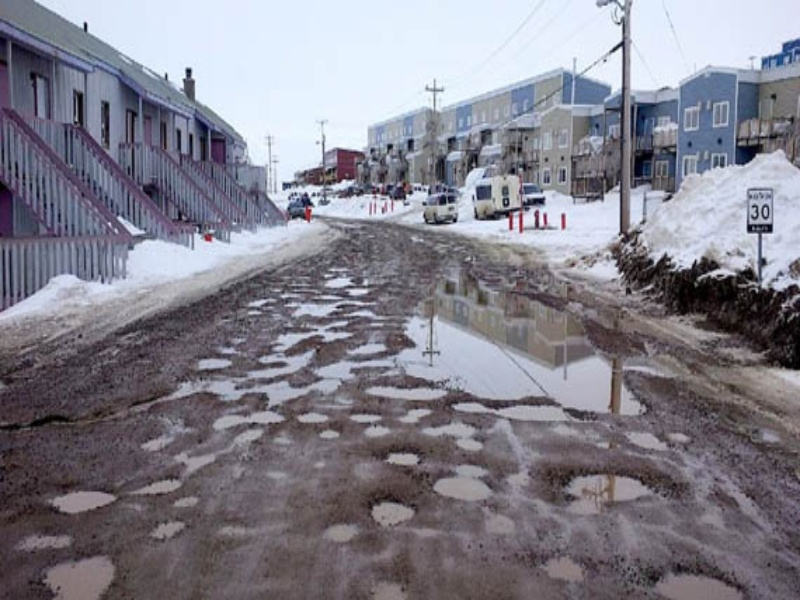pothole: (401, 287, 650, 417), (36, 547, 128, 600), (552, 467, 654, 510), (646, 563, 748, 600), (450, 396, 577, 424), (426, 472, 497, 504), (41, 488, 120, 516), (240, 351, 318, 378), (313, 356, 396, 379), (361, 380, 450, 400), (536, 550, 586, 583), (130, 473, 184, 499), (371, 446, 428, 470), (242, 378, 307, 399), (623, 424, 664, 456), (266, 328, 319, 352), (211, 410, 288, 426), (289, 299, 349, 319), (369, 498, 413, 525), (423, 417, 478, 438), (448, 433, 486, 454), (326, 521, 358, 543), (346, 340, 389, 356), (195, 353, 233, 371), (319, 322, 351, 343), (293, 408, 336, 423), (323, 273, 360, 290), (361, 419, 387, 440), (342, 283, 381, 297), (343, 411, 381, 425)
